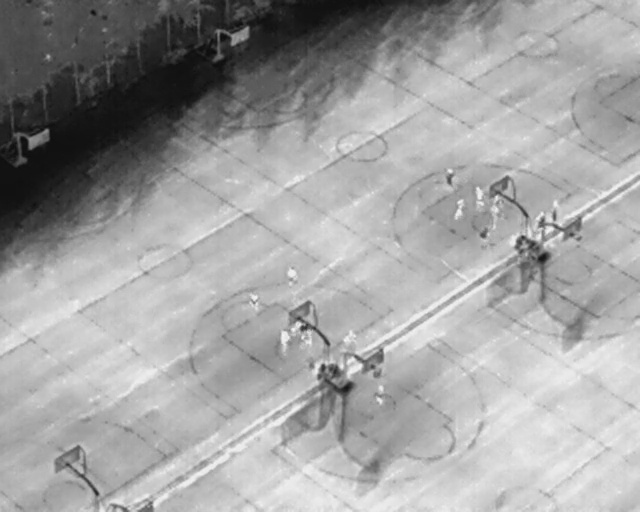Person: (550, 198, 561, 228), (345, 328, 358, 353), (279, 327, 290, 353), (474, 185, 485, 210), (453, 196, 463, 223), (491, 203, 501, 229), (303, 325, 313, 348), (537, 210, 546, 235), (286, 265, 296, 287), (480, 226, 490, 248), (291, 317, 301, 338), (249, 290, 258, 313), (446, 165, 455, 188), (376, 383, 385, 405)
